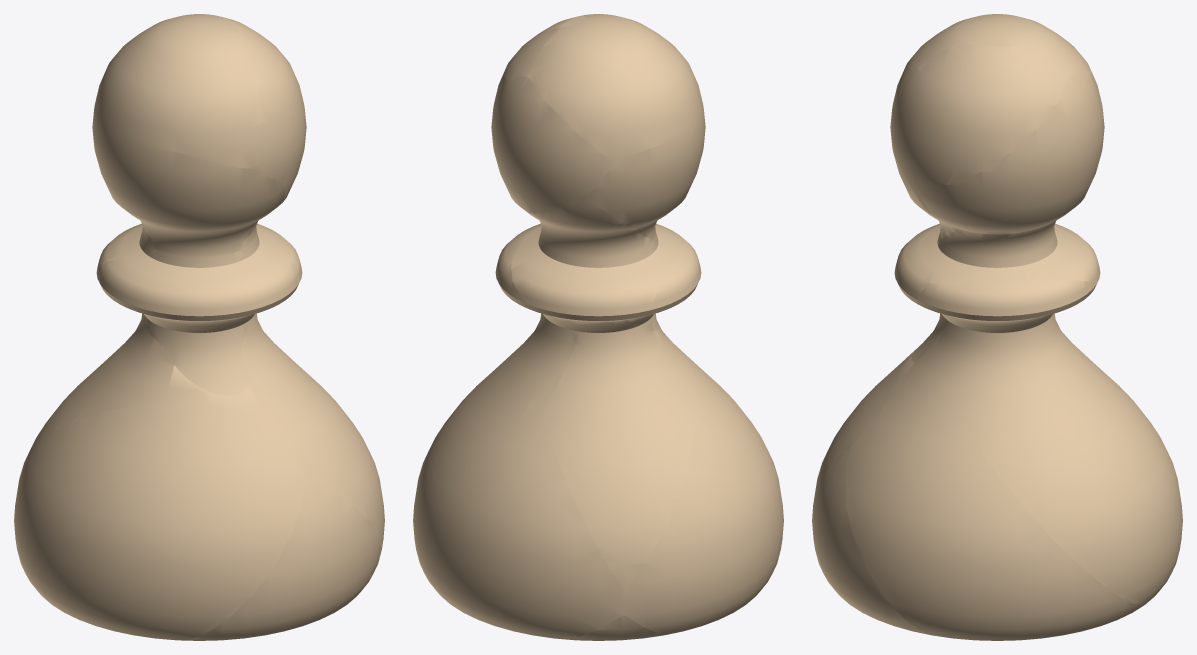
File: pawn.glb
3 views of the same model, side by side, from view 1: azimuth 30°, elevation 25°; view 2: azimuth 150°, elevation 25°; view 3: azimuth 270°, elevation 25° (orthographic).
Visible parts, largest first — view 1: chunk-02.006, chunk-11.006, chunk-06.006, chunk-08.006, chunk-00.006, chunk-04.006, chunk-01.006, chunk-10.006, chunk-05.006, chunk-07.006; view 2: chunk-03.006, chunk-04.006, chunk-02.006, chunk-11.006, chunk-07.006, chunk-09.006, chunk-08.006, chunk-05.006, chunk-06.006, chunk-10.006, chunk-00.006; view 3: chunk-01.006, chunk-03.006, chunk-05.006, chunk-10.006, chunk-09.006, chunk-07.006, chunk-00.006, chunk-11.006, chunk-06.006, chunk-02.006, chunk-04.006, chunk-08.006.
Boxes of the visible parts, box(x1,y1,x2,y2) form: chunk-02.006: box(14, 403, 306, 640); chunk-11.006: box(94, 14, 260, 169); chunk-06.006: box(96, 249, 294, 395); chunk-08.006: box(92, 109, 284, 255); chunk-00.006: box(185, 477, 381, 640); chunk-04.006: box(27, 313, 267, 455); chunk-01.006: box(294, 380, 384, 547); chunk-10.006: box(225, 17, 306, 184); chunk-05.006: box(243, 223, 320, 436); chunk-07.006: box(97, 221, 290, 270); chunk-03.006: box(414, 370, 624, 639); chunk-04.006: box(542, 320, 696, 590); chunk-02.006: box(624, 352, 783, 634); chunk-11.006: box(528, 14, 702, 162); chunk-07.006: box(511, 198, 657, 323); chunk-09.006: box(491, 76, 614, 212); chunk-08.006: box(586, 102, 705, 240); chunk-05.006: box(494, 223, 579, 414); chunk-06.006: box(627, 223, 701, 336); chunk-10.006: box(499, 16, 579, 83); chunk-00.006: box(566, 614, 665, 640); chunk-01.006: box(845, 419, 1144, 640); chunk-03.006: box(979, 381, 1182, 605); chunk-05.006: box(878, 279, 1099, 449); chunk-10.006: box(890, 44, 1068, 186); chunk-09.006: box(907, 73, 1104, 234); chunk-07.006: box(930, 197, 1100, 283); chunk-00.006: box(812, 448, 927, 634); chunk-11.006: box(890, 14, 1092, 131); chunk-06.006: box(894, 223, 946, 362); chunk-02.006: box(816, 353, 911, 482); chunk-04.006: box(891, 320, 1136, 404); chunk-08.006: box(891, 134, 957, 239).
Bounding box in the file's own units: 0.556 × 0.9 × 0.556.
